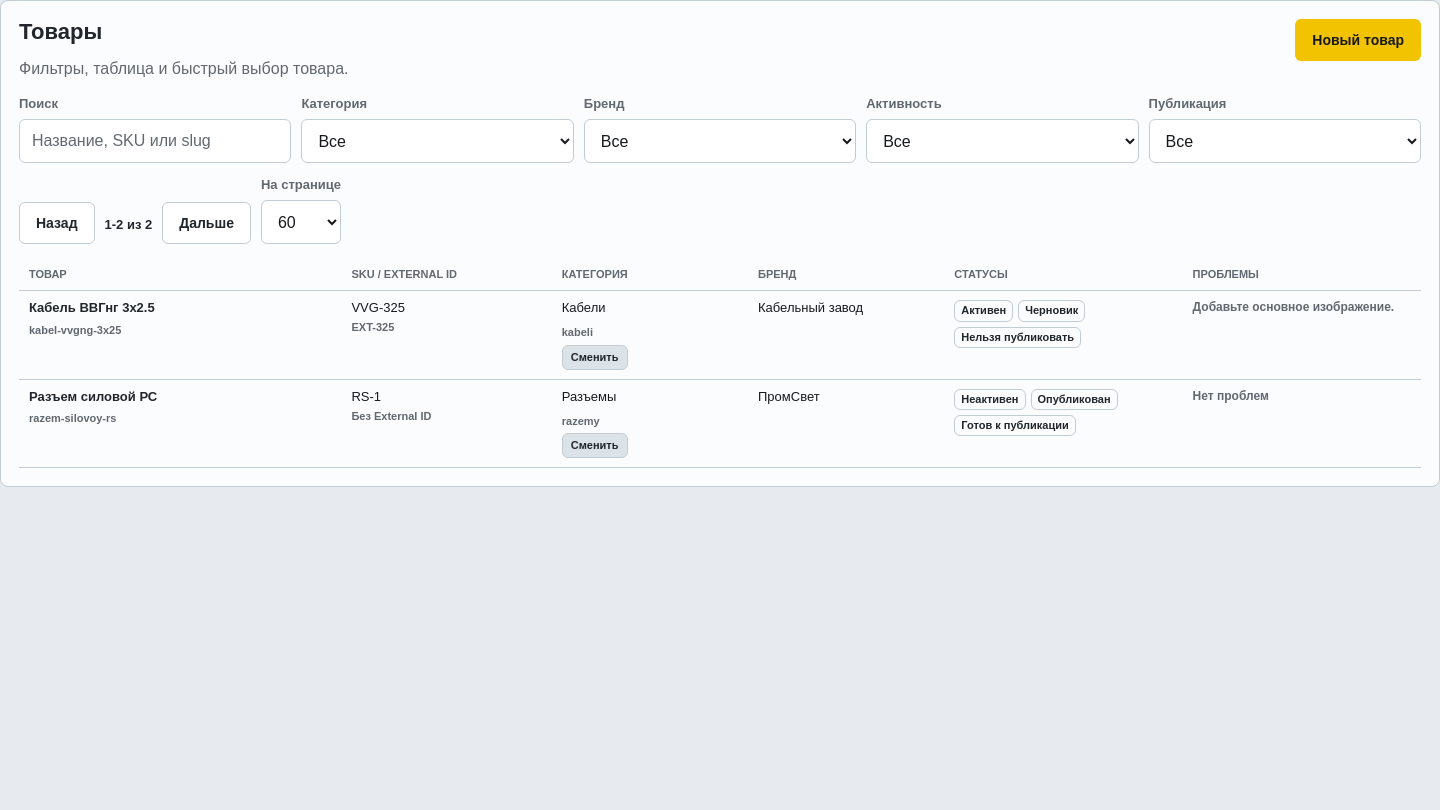
AdminProductManager › открывает быструю смену категории без полного редактора
Expected: the button "Кабель ВВГнг 3x2.5 kabel-vvgng-3x25" is shown, [29, 300, 332, 337]
Step 1. Click the button with aria-label "Сменить категорию" → (595, 357), box [562, 345, 628, 370]
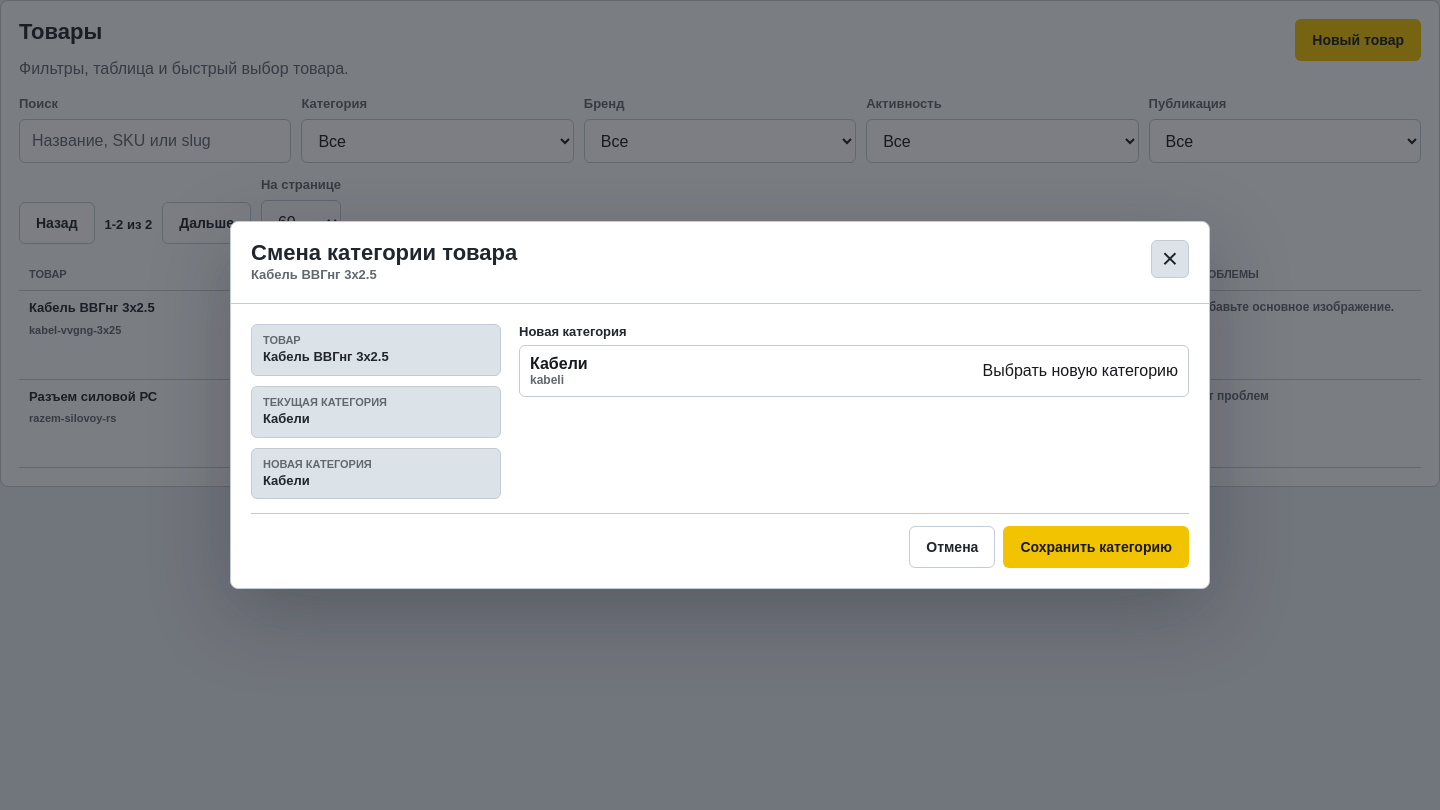
Result: the text "Кабель ВВГнг 3x2.5" below "Смена категории товара" is shown at [251, 267, 377, 282]
Result: the text "Кабели" below "Текущая категория" is shown at [263, 411, 310, 426]
Result: the button "Сохранить категорию" is disabled at [1003, 526, 1189, 568]
